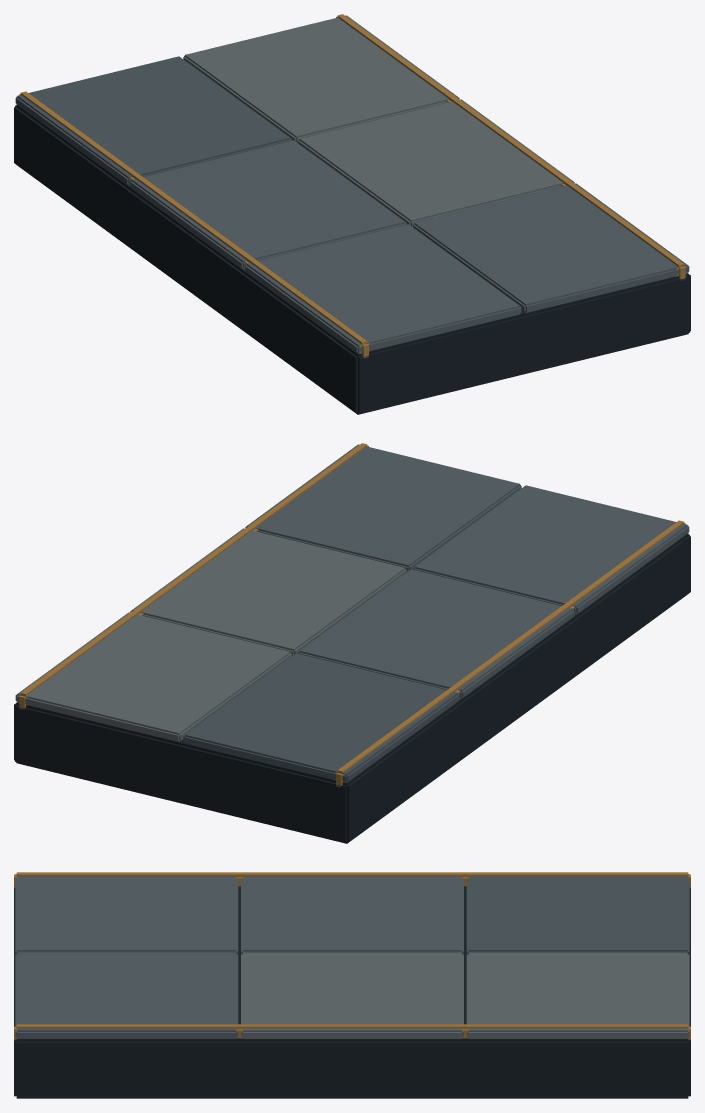
File: fracture-bridge-v01.glb
3 renders of one model, top to bottom at view 1: azimuth 30°, elevation 25°; view 2: azimuth 150°, elevation 25°; view 3: azimuth 270°, elevation 25°, orthographic.
Visible parts, largest first — view 1: Fracture Floor stone 0, Fracture Recesses and grout, Fracture Floor stone 2, Fracture Floor stone 3, Fracture Bronze • forged warm; view 2: Fracture Floor stone 0, Fracture Recesses and grout, Fracture Floor stone 2, Fracture Floor stone 3, Fracture Bronze • forged warm; view 3: Fracture Floor stone 0, Fracture Recesses and grout, Fracture Floor stone 2, Fracture Floor stone 3, Fracture Bronze • forged warm.
Part boxes in pixels (x1=…): Fracture Floor stone 0: x1=130, y1=140, x2=689, y2=353; Fracture Recesses and grout: x1=14, y1=104, x2=690, y2=414; Fracture Floor stone 2: x1=183, y1=15, x2=574, y2=226; Fracture Floor stone 3: x1=15, y1=56, x2=291, y2=185; Fracture Bronze • forged warm: x1=19, y1=14, x2=686, y2=358; Fracture Floor stone 0: x1=245, y1=444, x2=689, y2=698; Fracture Recesses and grout: x1=14, y1=533, x2=690, y2=843; Fracture Floor stone 2: x1=15, y1=528, x2=406, y2=741; Fracture Floor stone 3: x1=183, y1=653, x2=459, y2=782; Fracture Bronze • forged warm: x1=18, y1=443, x2=685, y2=786; Fracture Floor stone 0: x1=15, y1=874, x2=463, y2=1038; Fracture Recesses and grout: x1=14, y1=886, x2=690, y2=1098; Fracture Floor stone 2: x1=241, y1=952, x2=689, y2=1038; Fracture Floor stone 3: x1=466, y1=874, x2=689, y2=954; Fracture Bronze • forged warm: x1=14, y1=872, x2=690, y2=1039.
Bounding box in the file's own units: 3.6 × 0.73 × 6.4.
